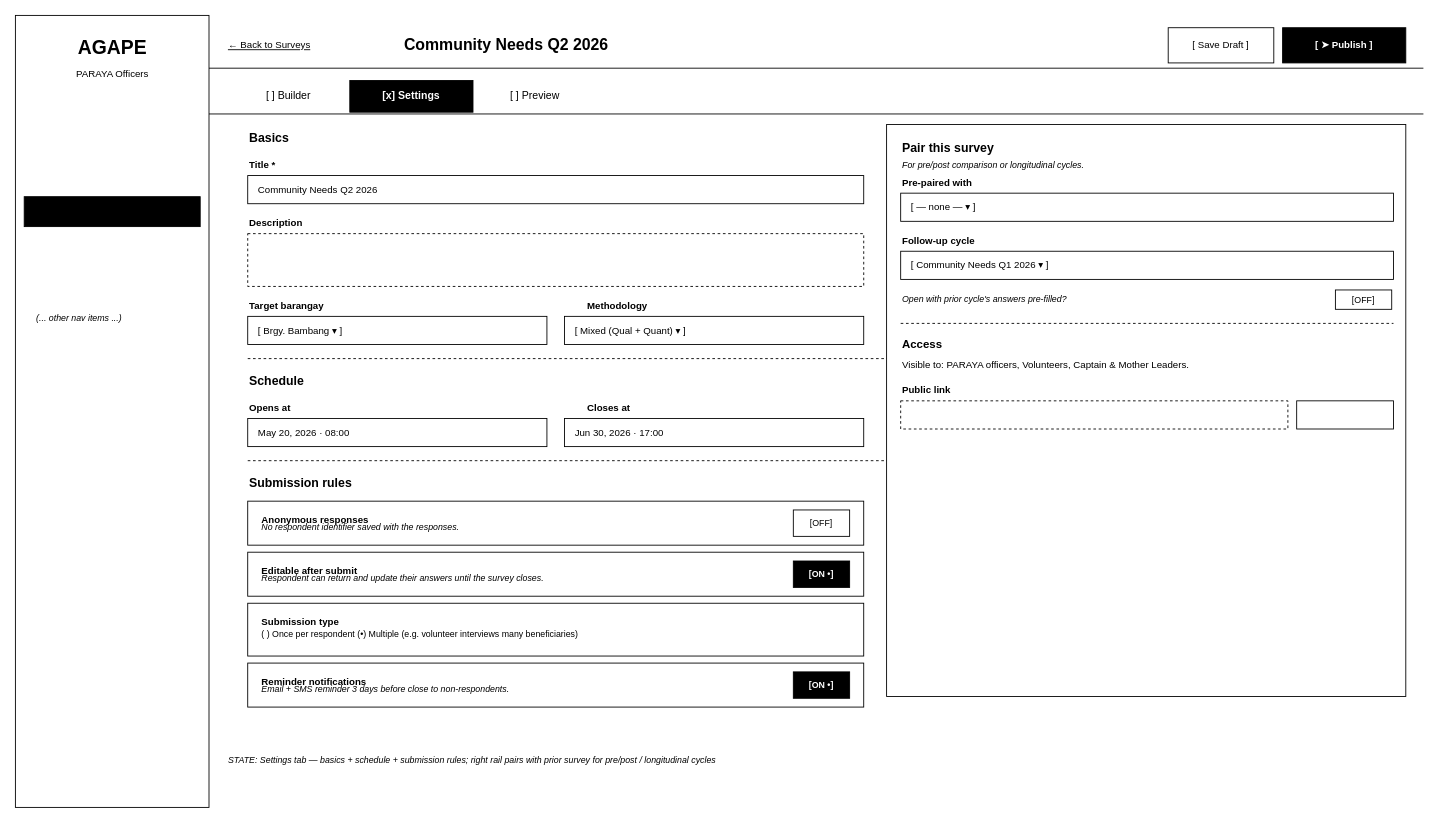
Image size: 1440x823. Some labels were removed from this diagram. Here are the shapes that lost their labels. From the top down, the centre of each, then its label:
point (111, 211): [x] Surveys
point (555, 259): Brief intro shown to respondents at the top of the survey…
point (1094, 414): agape.dyci.edu.ph/r/cnq2-2026
point (1344, 414): [ Copy ]
